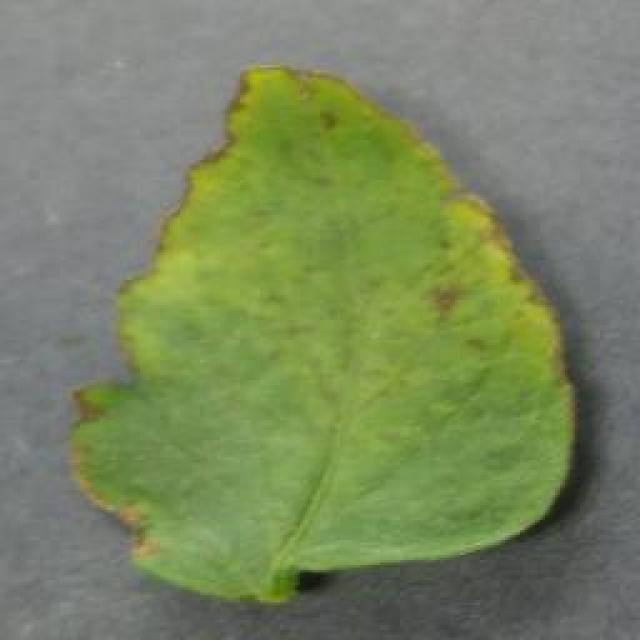Tom_Yellow_Leaf_Curl_Virus: (118, 90, 540, 554)
